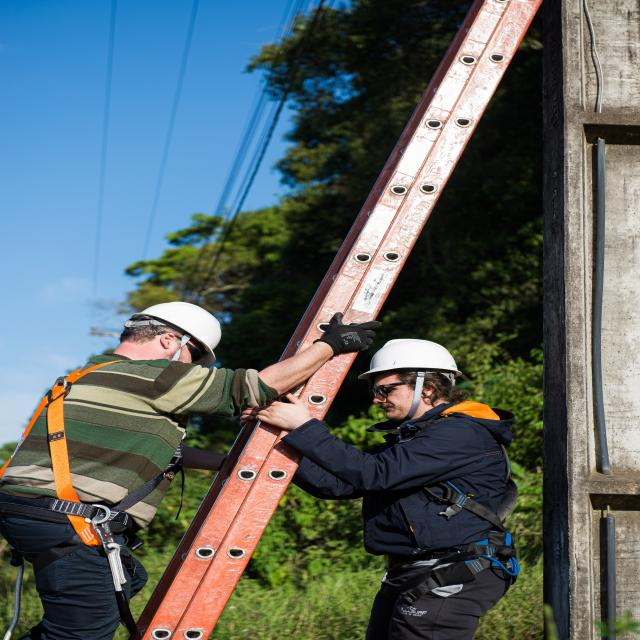capacete: (125, 299, 223, 369), (357, 337, 468, 383)
luva: (313, 310, 380, 358)
